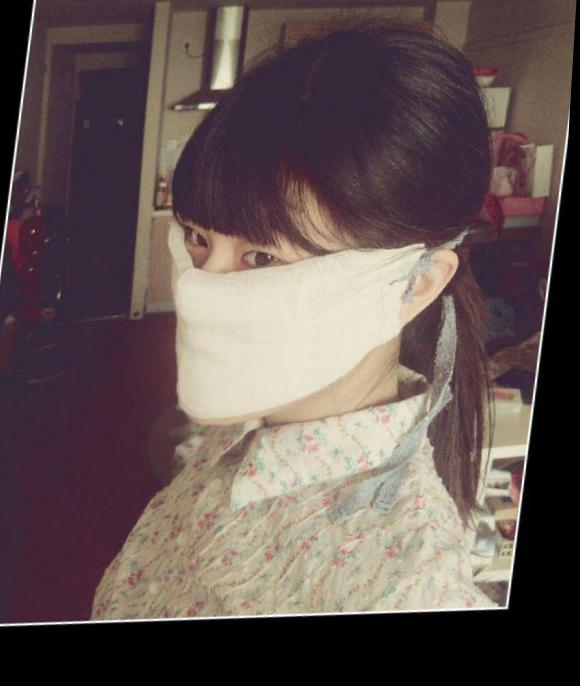WRONG: (151, 180, 410, 453)
